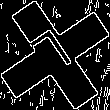L_SE: (28, 26, 82, 84)
